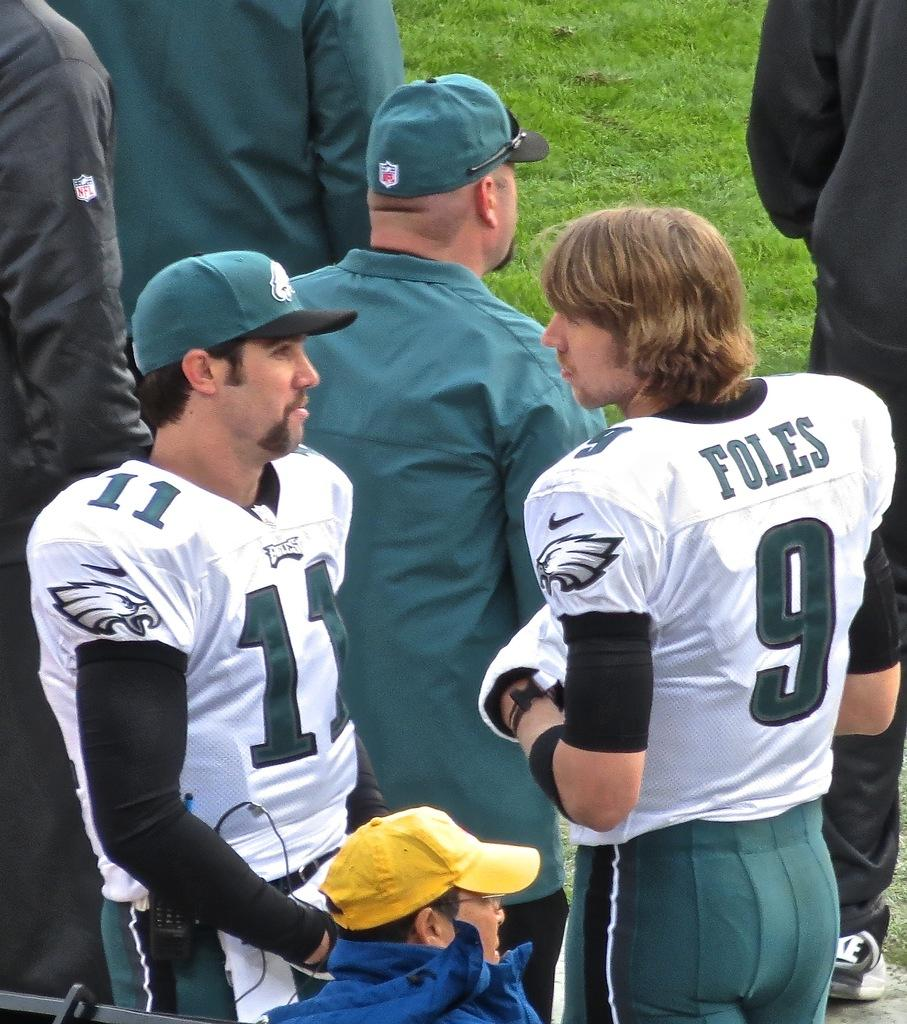Hat: (130, 250, 360, 378), (310, 803, 540, 927), (367, 70, 548, 196)
